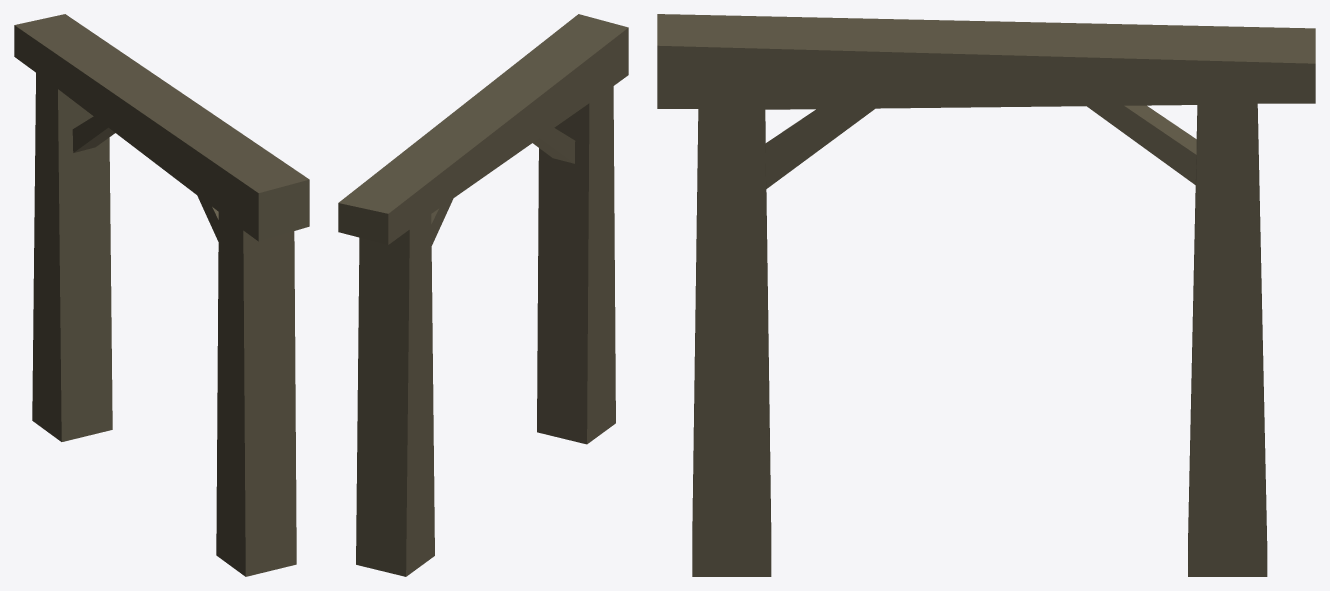
Rendered from MineFrame04.fbx.
3 views of the same model, side by side, from view 1: azimuth 30°, elevation 25°; view 2: azimuth 150°, elevation 25°; view 3: azimuth 270°, elevation 25° (orthographic). The views are drawn at different scales.
Visible parts, largest first — view 1: MineFrame04; view 2: MineFrame04; view 3: MineFrame04.
Boxes of the visible parts, x1,y1,x2,y2 form: MineFrame04: [14, 14, 309, 576]; MineFrame04: [338, 14, 628, 576]; MineFrame04: [657, 14, 1315, 576].
Size of the model in its own units: 419 by 373 by 50.42.
